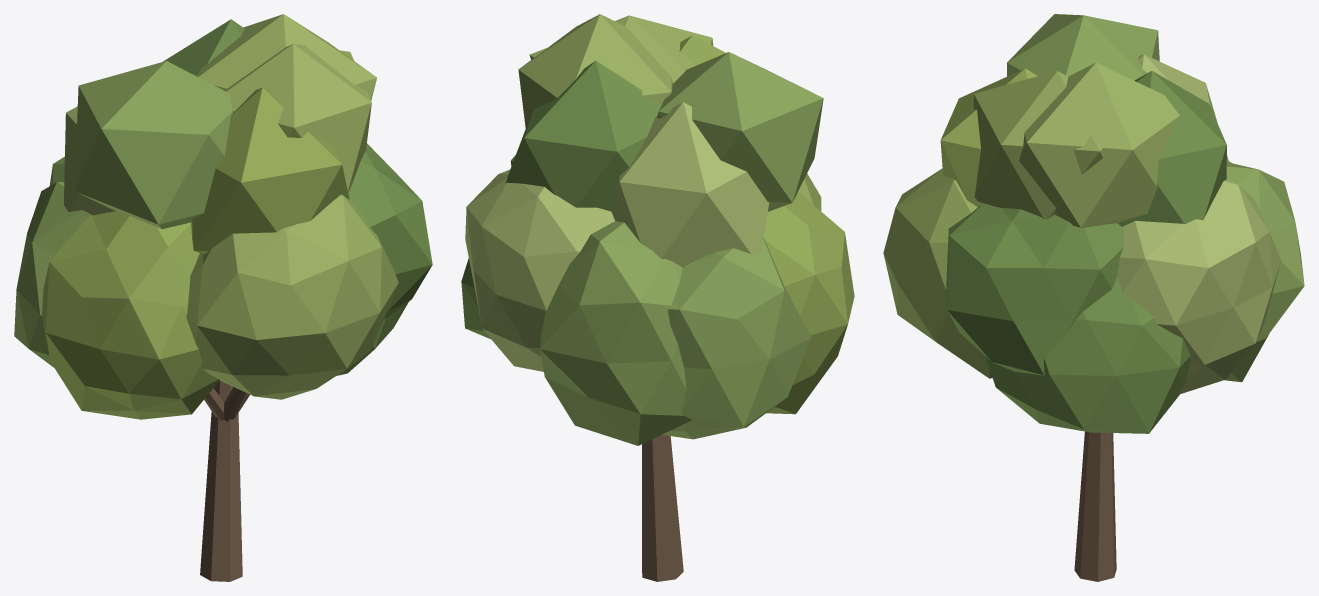
File: ENV_Monza_Oak_01.glb
3 views of the same model, side by side, from view 1: azimuth 30°, elevation 25°; view 2: azimuth 150°, elevation 25°; view 3: azimuth 270°, elevation 25° (orthographic).
Visible parts, largest first — view 1: ENV_Monza_Oak_01; view 2: ENV_Monza_Oak_01; view 3: ENV_Monza_Oak_01.
Part boxes in pixels (x1=…): ENV_Monza_Oak_01: x1=14, y1=14, x2=432, y2=581; ENV_Monza_Oak_01: x1=461, y1=14, x2=854, y2=581; ENV_Monza_Oak_01: x1=883, y1=14, x2=1304, y2=581.
Size of the model in its own units: 8.77 by 12.61 by 8.91.
